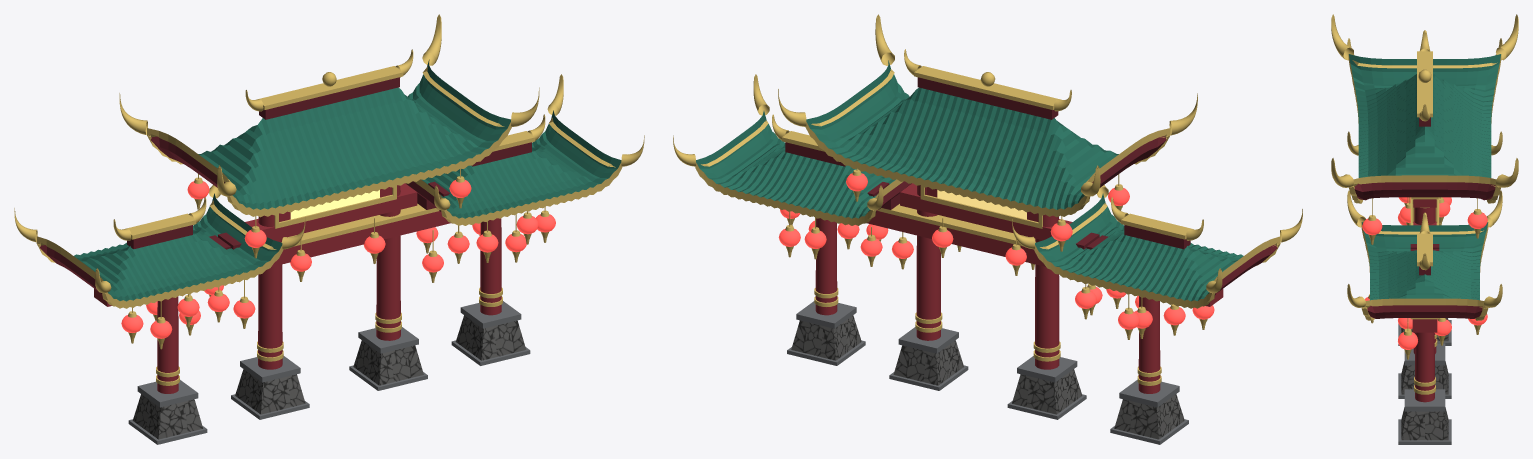
The model's file is chinese-new-year-gate.glb.
The picture shows the model from 3 angles, left to right: view 1: azimuth 30°, elevation 25°; view 2: azimuth 150°, elevation 25°; view 3: azimuth 270°, elevation 25°; orthographic projection. The views are drawn at different scales.
Visible parts, largest first — view 1: RoofCentre, RoofLeft, RoofRight, Column_L1, Architrave_Low, Column_R1, Architrave_Mid, PlinthStone_L1, PlinthStone_R1, PlinthStone_R2, PlinthStone_L2, RoofCentre_RidgeCap (+12 smaller); view 2: RoofCentre, RoofLeft, RoofRight, Column_L1, Column_R1, Architrave_Low, PlinthStone_R2, PlinthStone_L2, PlinthStone_L1, PlinthStone_R1, Architrave_Mid, RoofCentre_RidgeCap (+12 smaller); view 3: RoofCentre, RoofRight, PlinthStone_R2, Column_R2, RoofCentre_RidgeCap, PlinthCap_R2, PlinthStone_R1, RoofRight_RidgeCap, Footing_R2, RoofCentre_Horn_LB, RoofCentre_Horn_LF, PlinthCap_R1 (+17 smaller).
Part boxes in pixels (<box>): RoofCentre: <box>147,59,511,217</box>; RoofLeft: <box>36,193,283,308</box>; RoofRight: <box>405,110,622,225</box>; Column_L1: <box>258,214,282,369</box>; Architrave_Low: <box>94,211,450,306</box>; Column_R1: <box>376,185,400,340</box>; Architrave_Mid: <box>245,183,417,240</box>; PlinthStone_L1: <box>235,369,305,414</box>; PlinthStone_R1: <box>353,340,423,385</box>; PlinthStone_R2: <box>455,315,526,360</box>; PlinthStone_L2: <box>132,394,202,439</box>; RoofCentre_RidgeCap: <box>259,66,403,109</box>; RoofCentre: <box>805,60,1170,217</box>; RoofLeft: <box>1034,193,1280,308</box>; RoofRight: <box>695,111,911,225</box>; Column_L1: <box>1035,213,1059,369</box>; Column_R1: <box>916,185,940,340</box>; Architrave_Low: <box>866,211,1223,306</box>; PlinthStone_R2: <box>791,315,861,360</box>; PlinthStone_L2: <box>1114,394,1184,439</box>; PlinthStone_L1: <box>1012,369,1082,414</box>; PlinthStone_R1: <box>893,340,963,385</box>; Architrave_Mid: <box>900,183,1072,240</box>; RoofCentre_RidgeCap: <box>914,66,1061,109</box>; RoofCentre: <box>1348,54,1501,203</box>; RoofRight: <box>1361,222,1488,320</box>; PlinthStone_R2: <box>1401,407,1448,440</box>; Column_R2: <box>1415,332,1434,402</box>; RoofCentre_RidgeCap: <box>1417,51,1432,117</box>; PlinthCap_R2: <box>1404,389,1445,411</box>; PlinthStone_R1: <box>1401,361,1448,394</box>; RoofRight_RidgeCap: <box>1417,233,1432,266</box>; Footing_R2: <box>1398,419,1451,444</box>; RoofCentre_Horn_LB: <box>1496,14,1518,60</box>; RoofCentre_Horn_LF: <box>1331,14,1353,60</box>; PlinthCap_R1: <box>1404,343,1445,365</box>.
Bounding box in the file's own units: 17.17 × 9.55 × 5.52.
8 materials, 2 textured.
